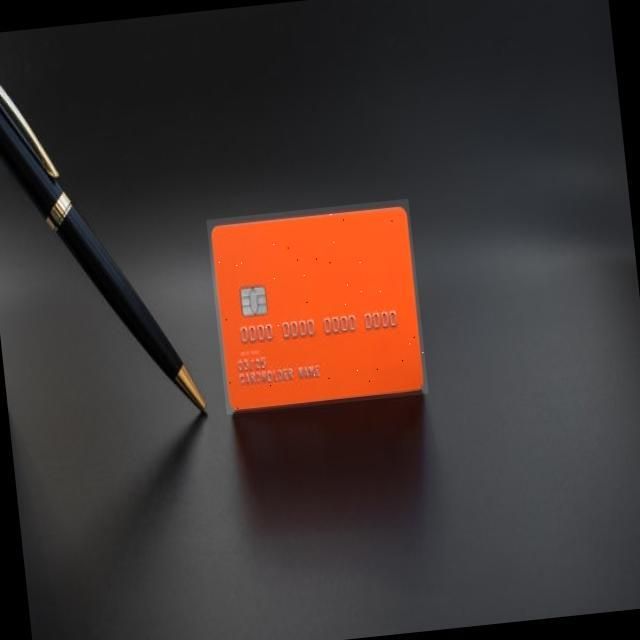payment_card: (206, 198, 426, 415)
